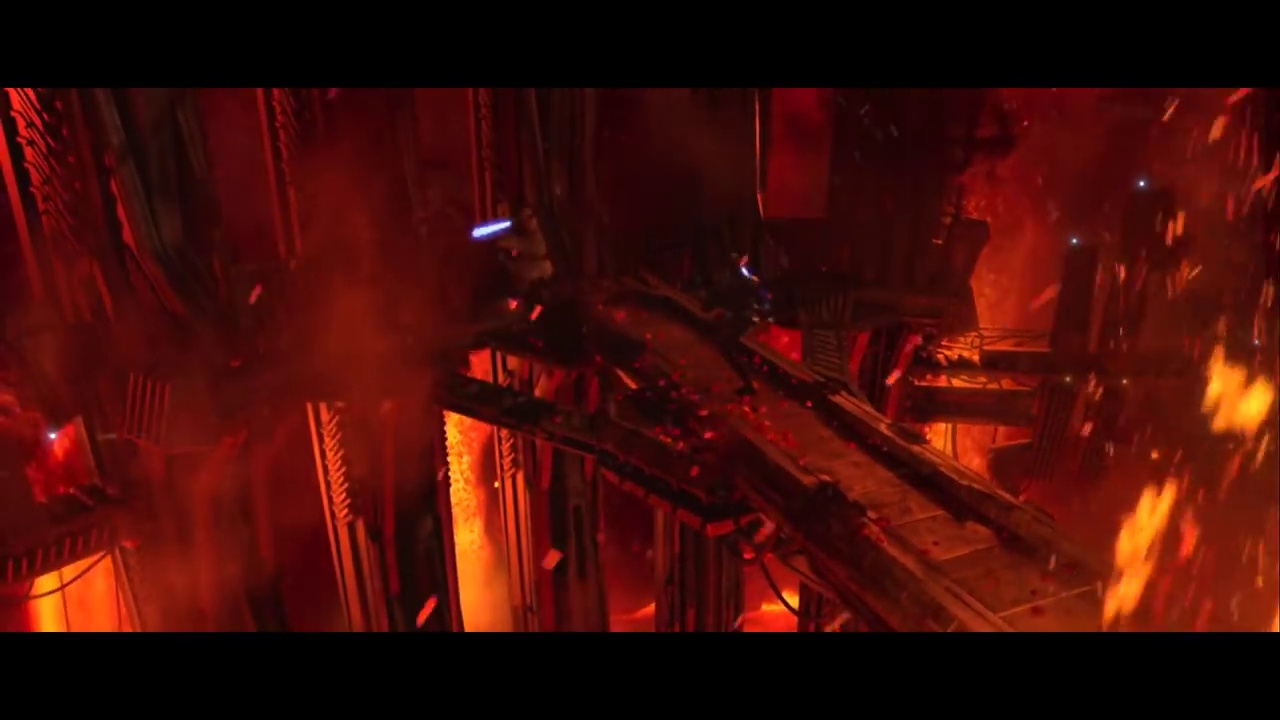lightsaber: (462, 204, 516, 241)
